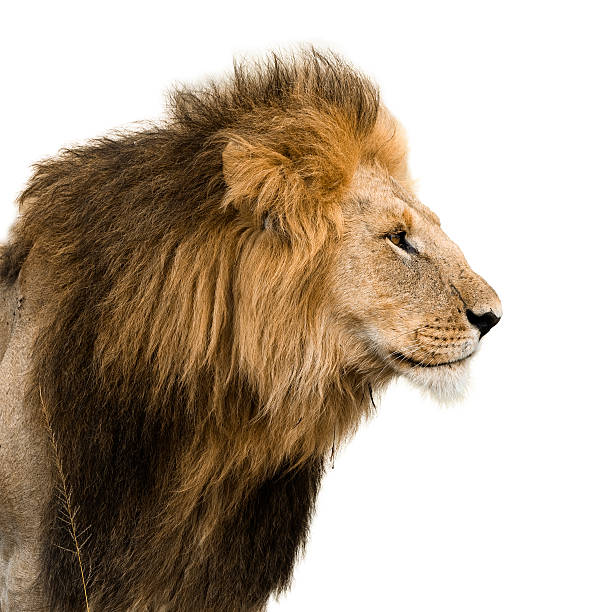lion: (19, 33, 530, 601)
